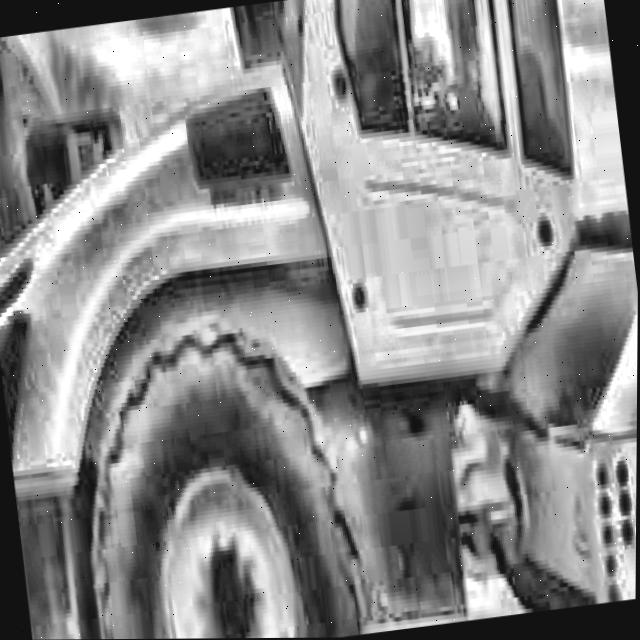excavator: (0, 0, 340, 425)
